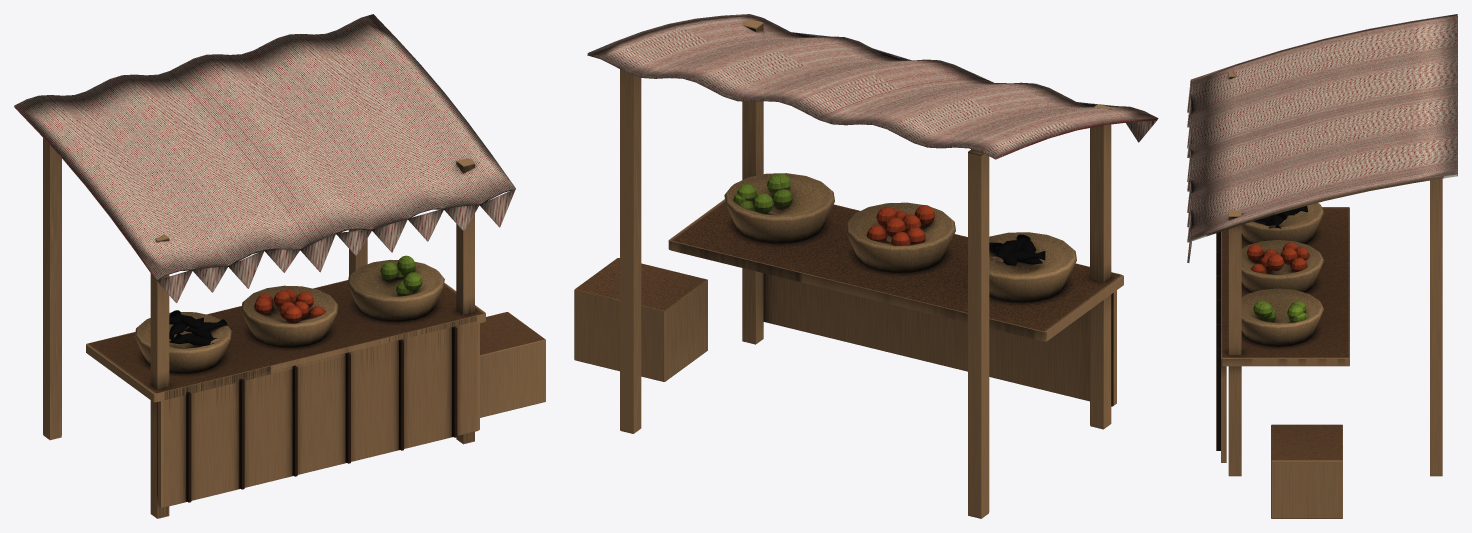
The model's file is cenario_barraca_feira_a.glb.
3 views of the same model, side by side, from view 1: azimuth 30°, elevation 25°; view 2: azimuth 150°, elevation 25°; view 3: azimuth 270°, elevation 25° (orthographic). The views are drawn at different scales.
Visible parts, largest first — view 1: cenario_barraca_feira_a; view 2: cenario_barraca_feira_a; view 3: cenario_barraca_feira_a.
Part boxes in pixels (box(x1,y1,x2,y2)): cenario_barraca_feira_a: box(14, 14, 545, 518); cenario_barraca_feira_a: box(574, 14, 1158, 518); cenario_barraca_feira_a: box(1187, 14, 1457, 518).
Bounding box in the file's own units: 3.25 × 2.39 × 1.88.
1 material, 1 textured.
